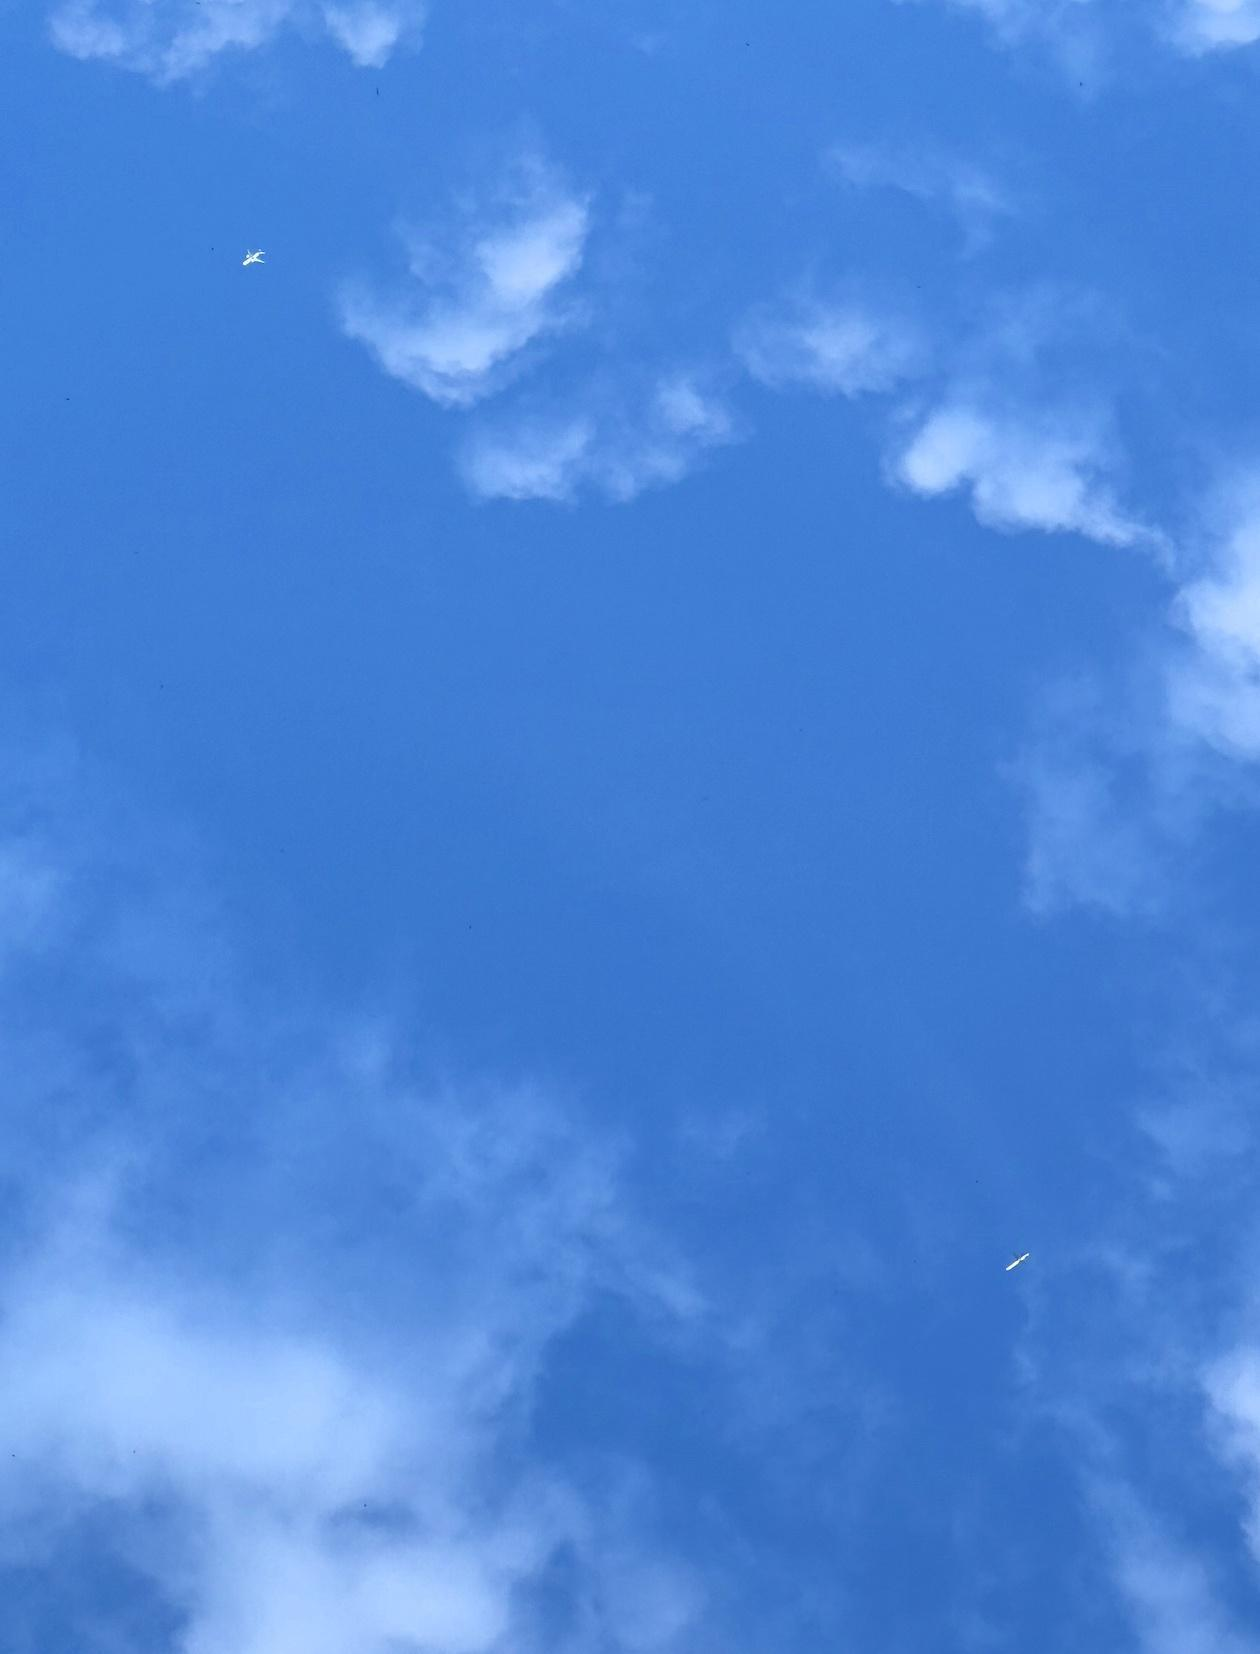Plane: (977, 1217, 1076, 1284), (221, 245, 291, 283)
